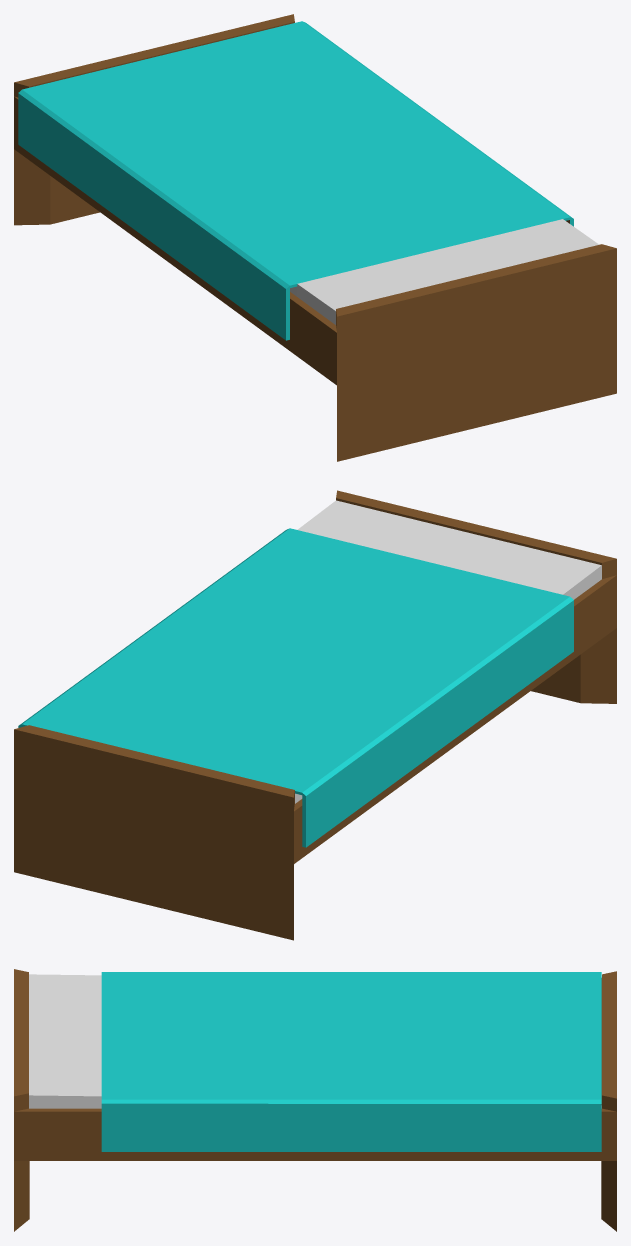
File: Bed.fbx
The picture shows the model from 3 angles, top to bottom: view 1: azimuth 30°, elevation 25°; view 2: azimuth 150°, elevation 25°; view 3: azimuth 270°, elevation 25°; orthographic projection. The views are drawn at different scales.
Visible parts, largest first — view 1: Bed; view 2: Bed; view 3: Bed.
Part boxes in pixels (x1=…): Bed: x1=14, y1=14, x2=616, y2=461; Bed: x1=14, y1=490, x2=616, y2=940; Bed: x1=14, y1=969, x2=616, y2=1231.
Size of the model in its own units: 25.71 by 12.4 by 50.
